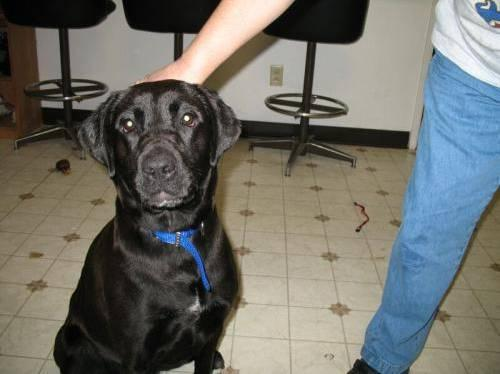dog: (53, 81, 239, 373)
